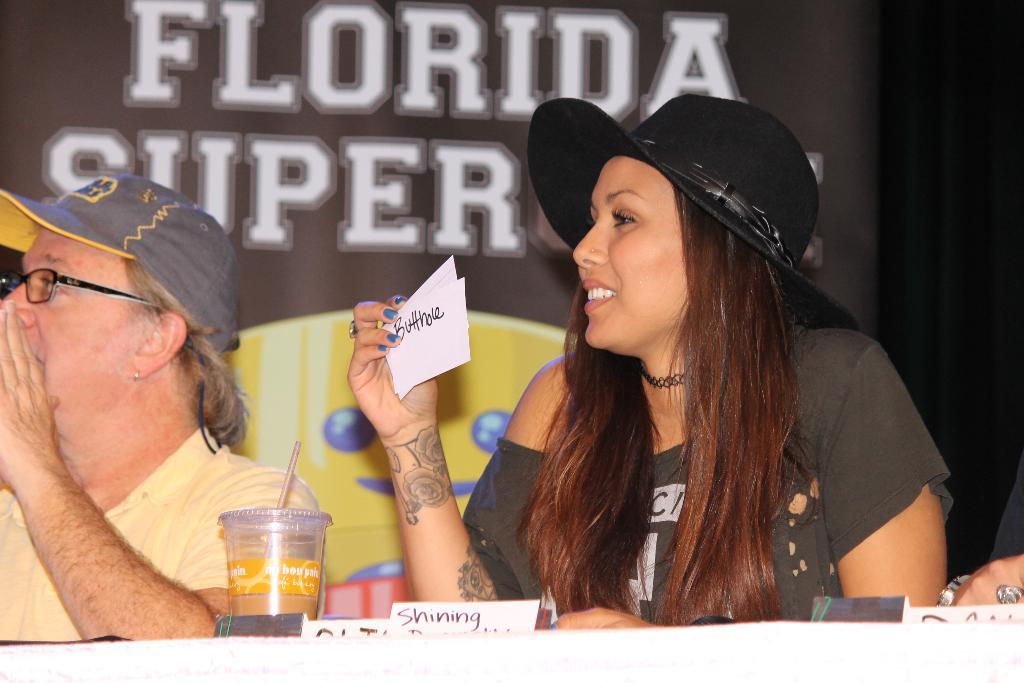Hat: (528, 94, 856, 334), (0, 167, 241, 357)
